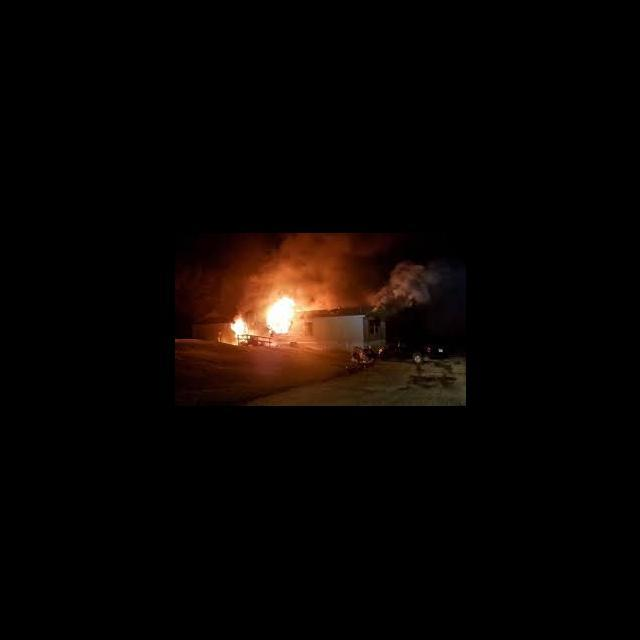Fire: (264, 294, 298, 337), (229, 312, 250, 340)
Smoke: (367, 262, 452, 316)
